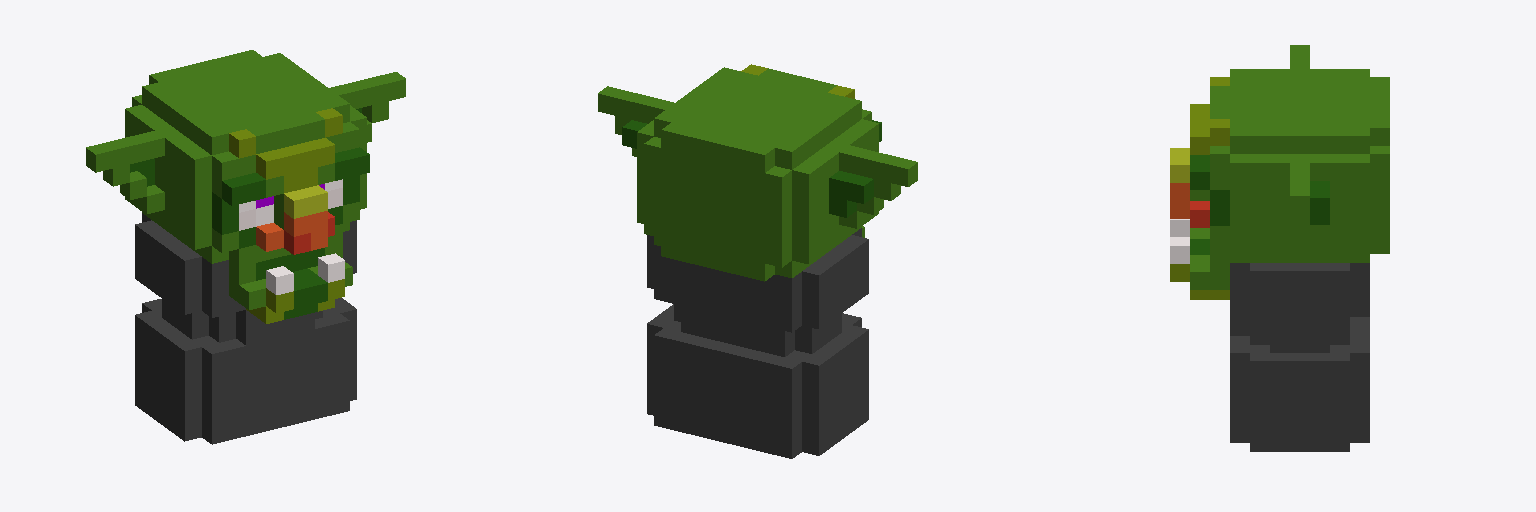
3 views of the same model, side by side, from view 1: azimuth 30°, elevation 25°; view 2: azimuth 150°, elevation 25°; view 3: azimuth 270°, elevation 25° (orthographic).
Bounding box in the file's own units: 18 × 17 × 11.
1 materials, 1 textured.